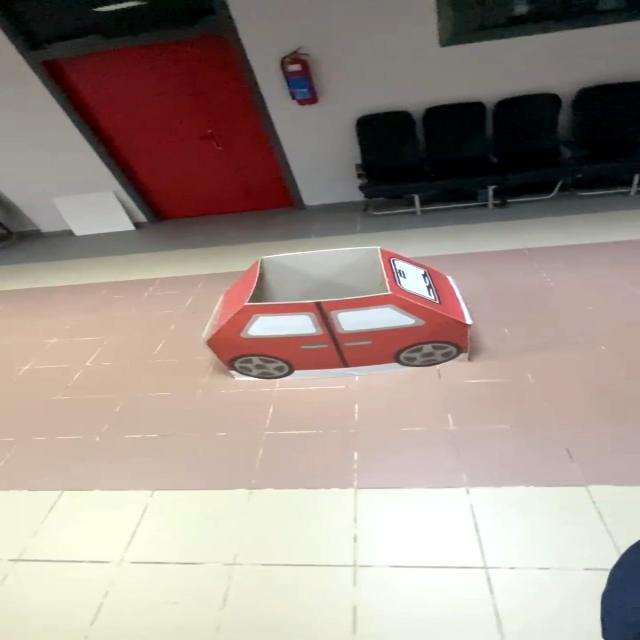red_car: (151, 238, 525, 393)
